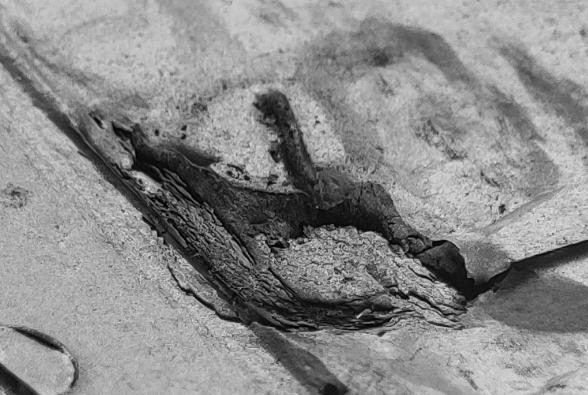paint-off: (1, 0, 588, 395)
